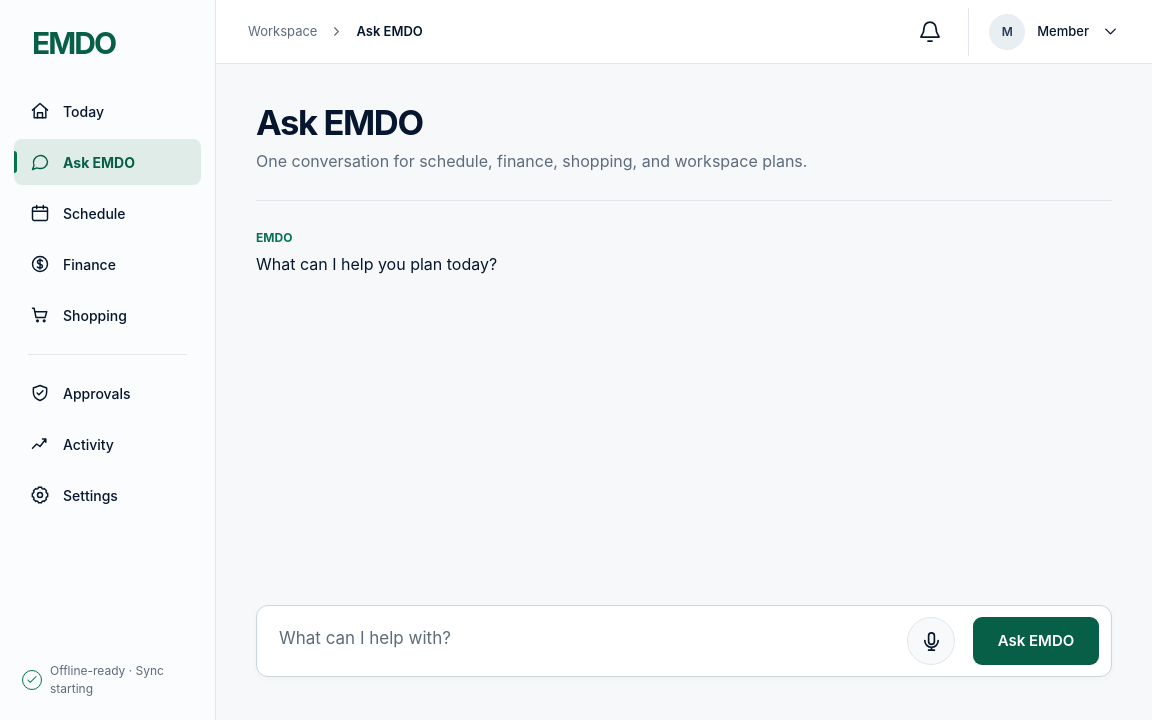
it: truthful experience routes › renders the provider-free durable completion summary in the manager conversation
Type "add 2 each oat milk to shopping list" into the text box named "Ask EMDO" at (583, 641), box [277,624,889,658]
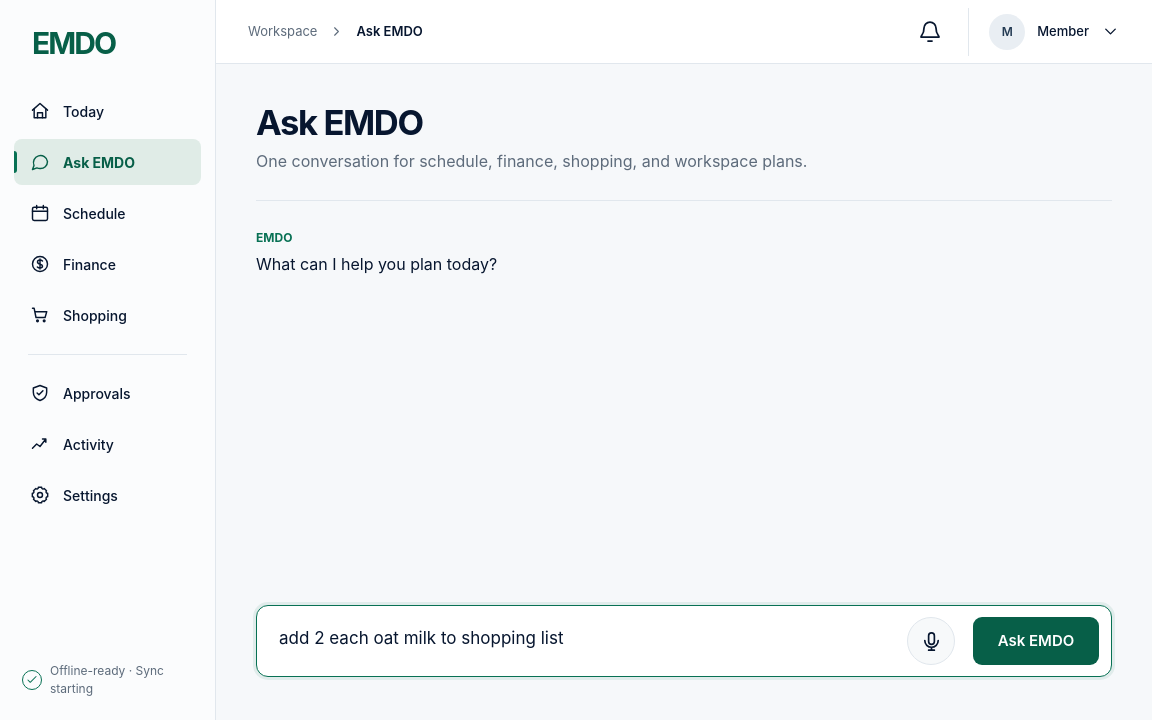
Click the button "Ask EMDO" at (1036, 641), box [973,617,1099,665]
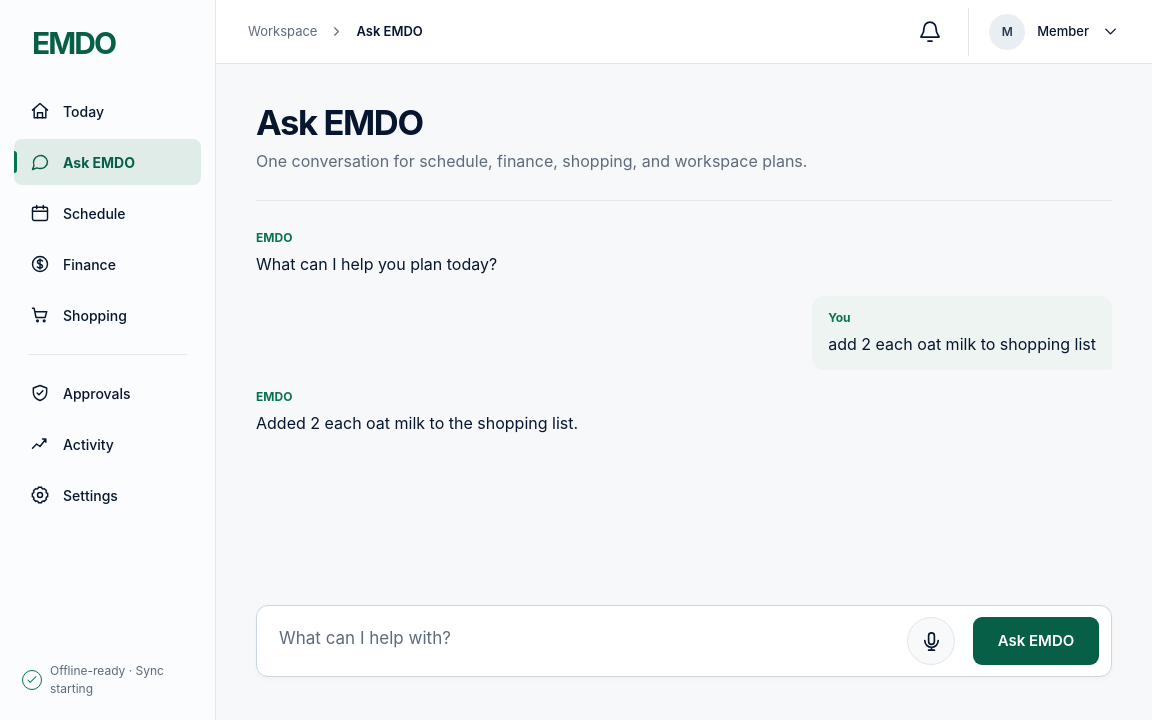
Now the text "Added 2 each oat milk to the shopping list." is shown, box [256,413,578,433]
